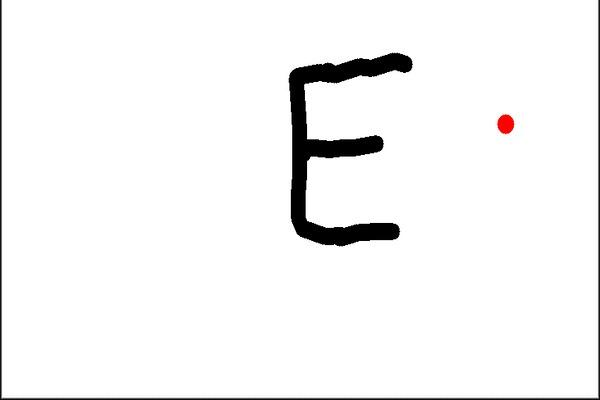E: (282, 45, 414, 250)
